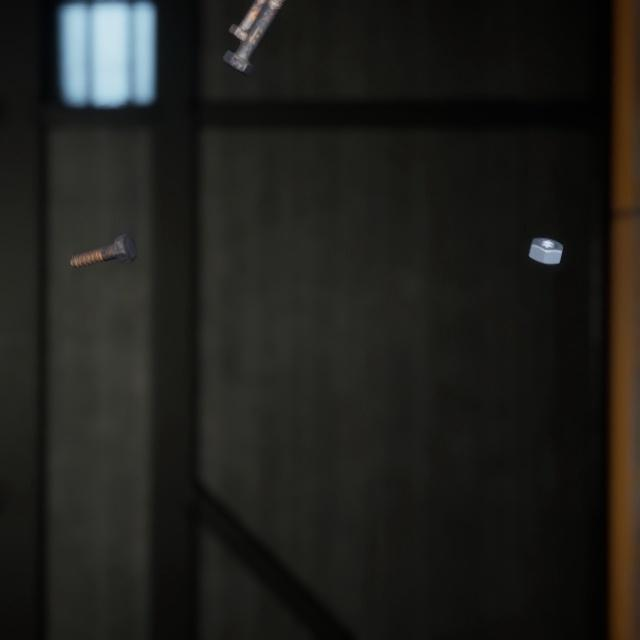bolt: (218, 0, 285, 71), (65, 213, 141, 256), (224, 0, 266, 38)
nut: (524, 217, 567, 252)
